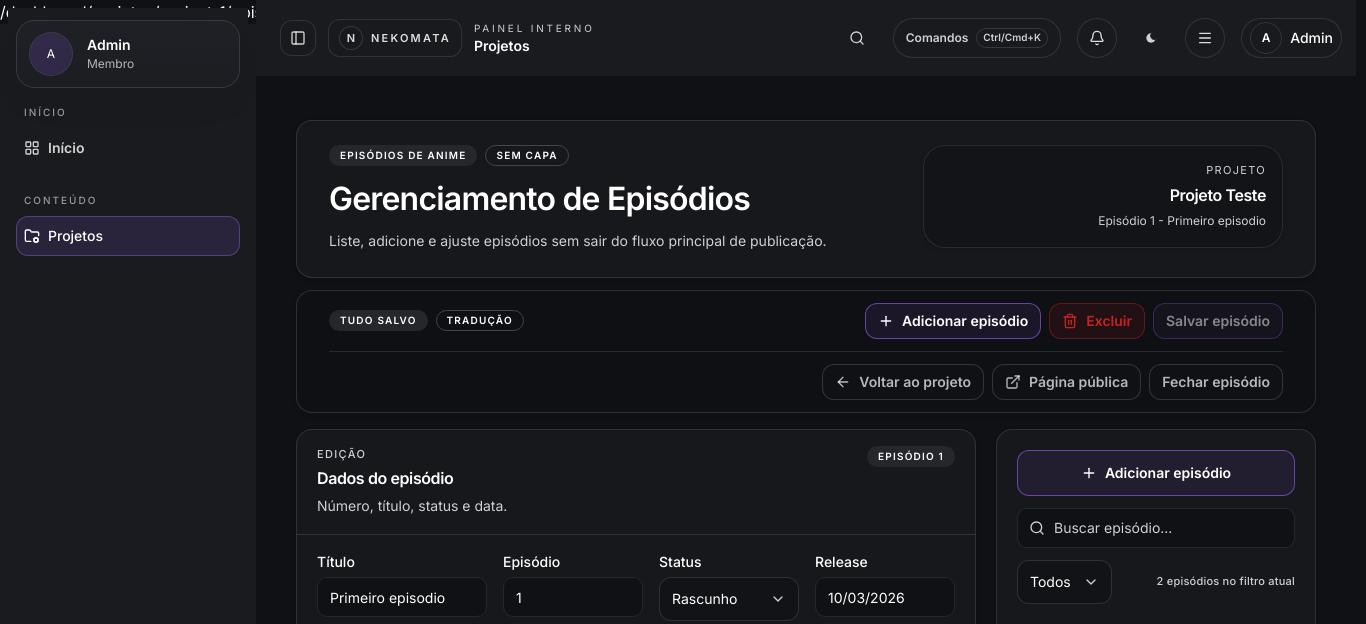
DashboardProjectEpisodeEditor › salva o rascunho atual antes de adicionar um novo episódio quando o usuário escolhe continuar salvando
Expected: the heading "Gerenciamento de Episódios" is shown, [329,179,750,218]
Replace the text in the field labelled "Título" with "Primeiro episodio revisado" at x=402, y=597, box [317,577,487,617]
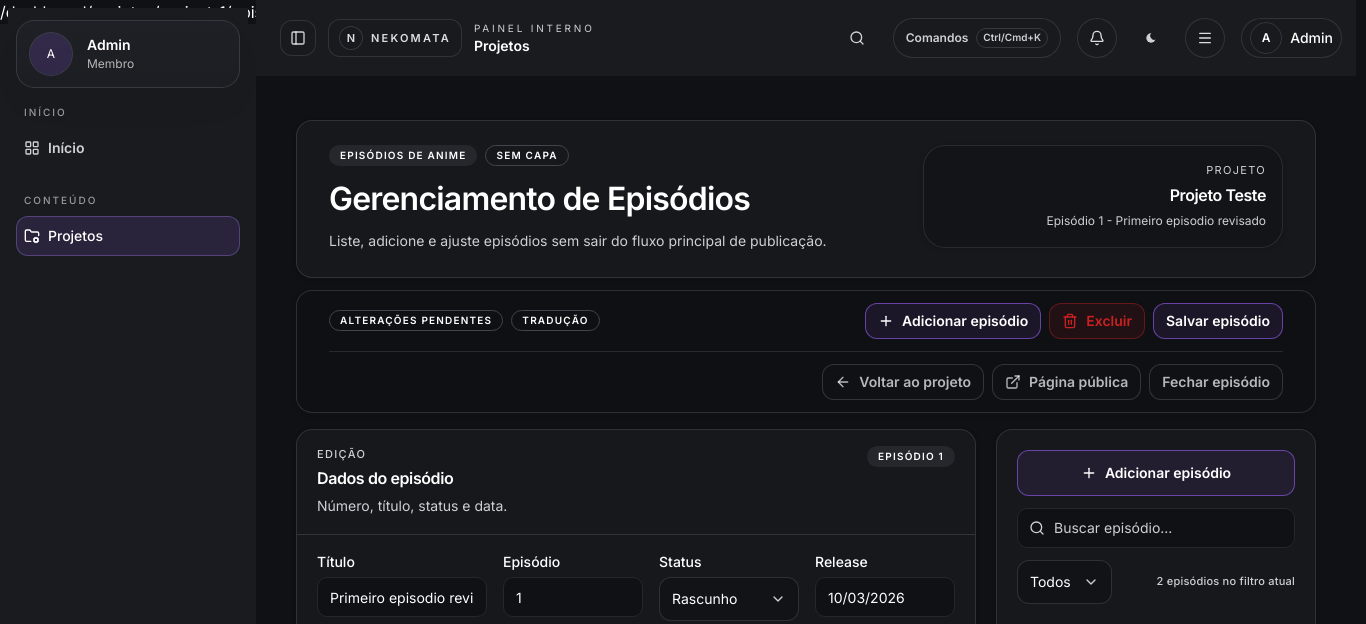
Click the button "Adicionar episódio" in the row of "Alterações pendentes".
click(953, 321)  # box [865,303,1041,339]
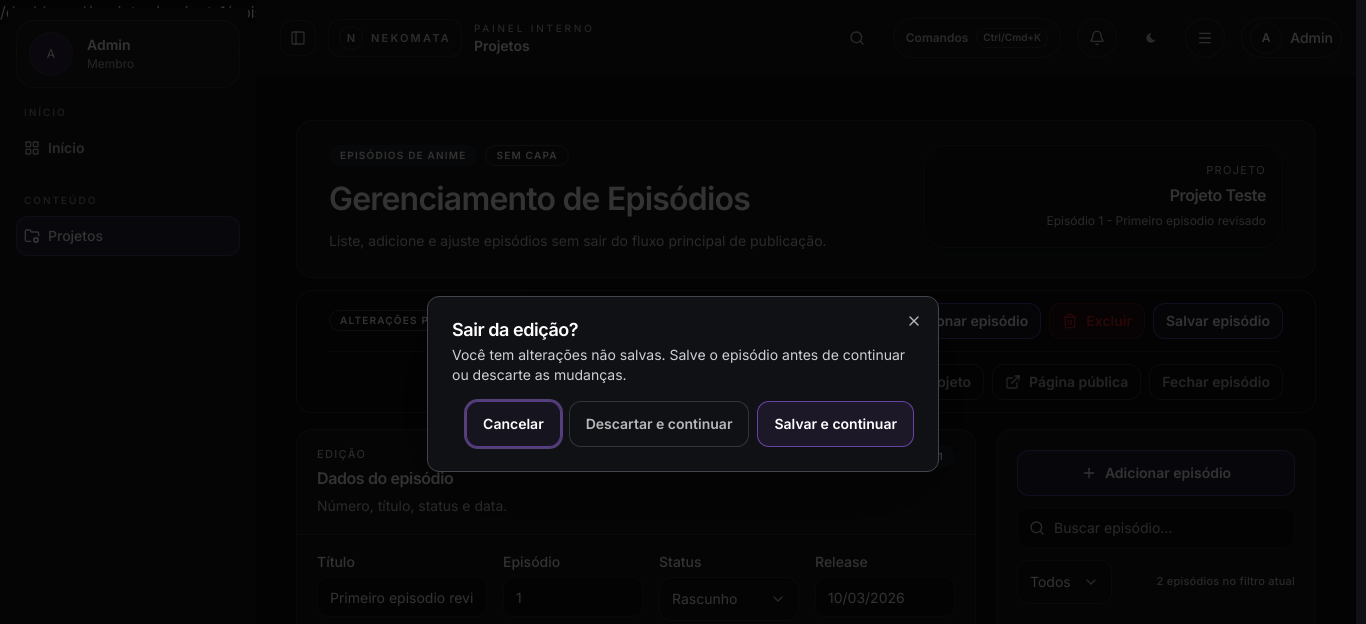
Now the dialog with test id "anime-episode-unsaved-leave-dialog" is shown, box [427,296,939,472]
Click the button "Salvar e continuar".
click(836, 424)  # box [758,401,914,447]
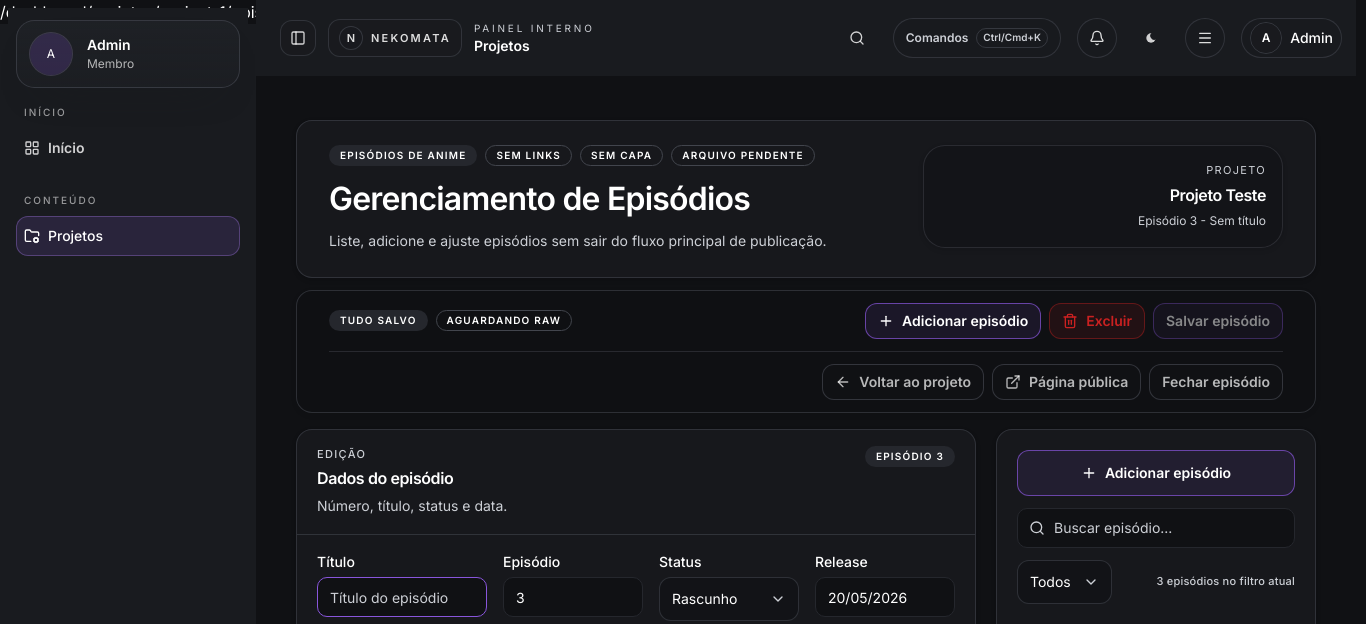
Now the text with test id "location" reads "/dashboard/projetos/project-1/episodios/3", box [0,2,320,22]
